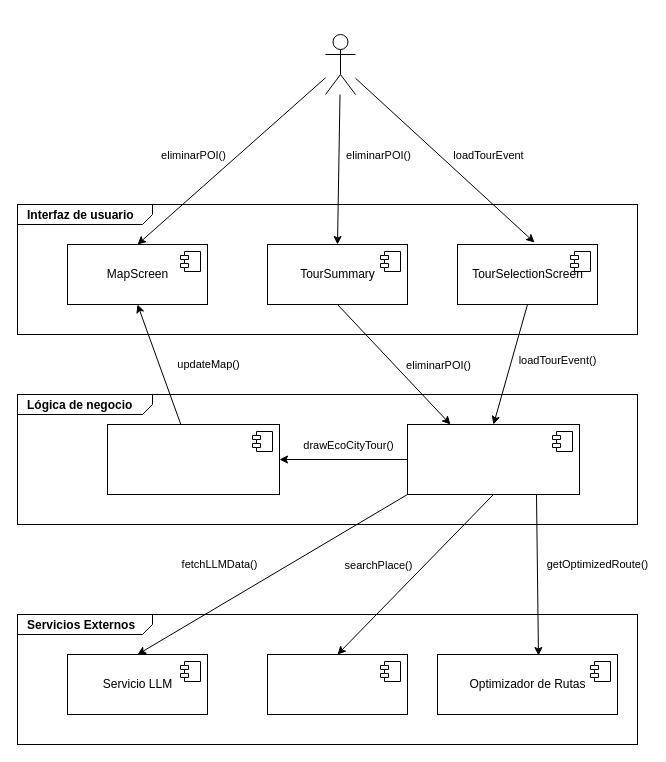
Image size: 666x762. Some labels were removed from this diagram. Each missing label, with the centre of its shape:
Generador de Rutas TourBloc: the point at 493,459
Gestor de mapa MapBloc: the point at 193,459
Google Places: the point at 337,684
Usuario: the point at 340,64
